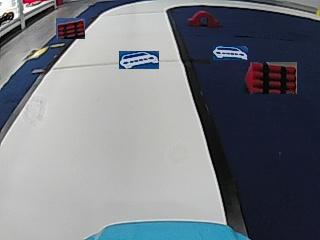bridge: (188, 10, 219, 26)
